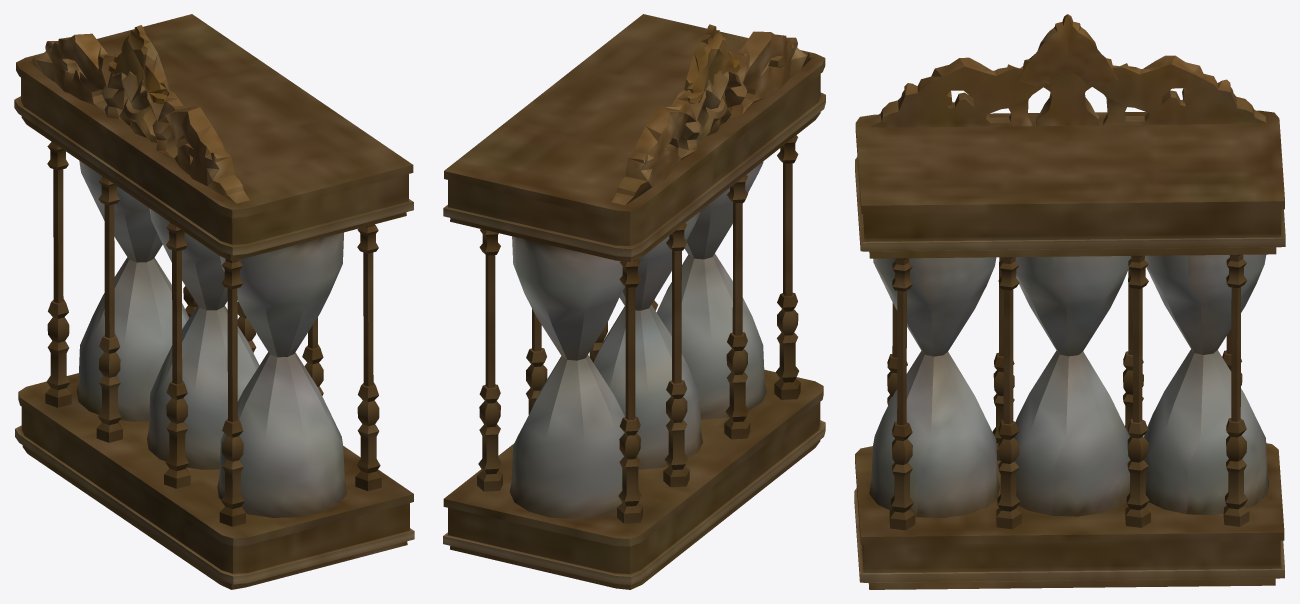
File: hourglass-wood.glb
The picture shows the model from 3 angles, left to right: view 1: azimuth 30°, elevation 25°; view 2: azimuth 150°, elevation 25°; view 3: azimuth 270°, elevation 25°; orthographic projection.
Parts seen in each view (by area): view 1: hourglass-wood; view 2: hourglass-wood; view 3: hourglass-wood.
Part boxes in pixels (x1,y1,x2,y2): hourglass-wood: (14,14,414,589); hourglass-wood: (443,14,825,589); hourglass-wood: (854,14,1285,589).
Size of the model in its own units: 0.1109 by 0.2631 by 0.2089.
Materials: 1 (1 with a texture image).
